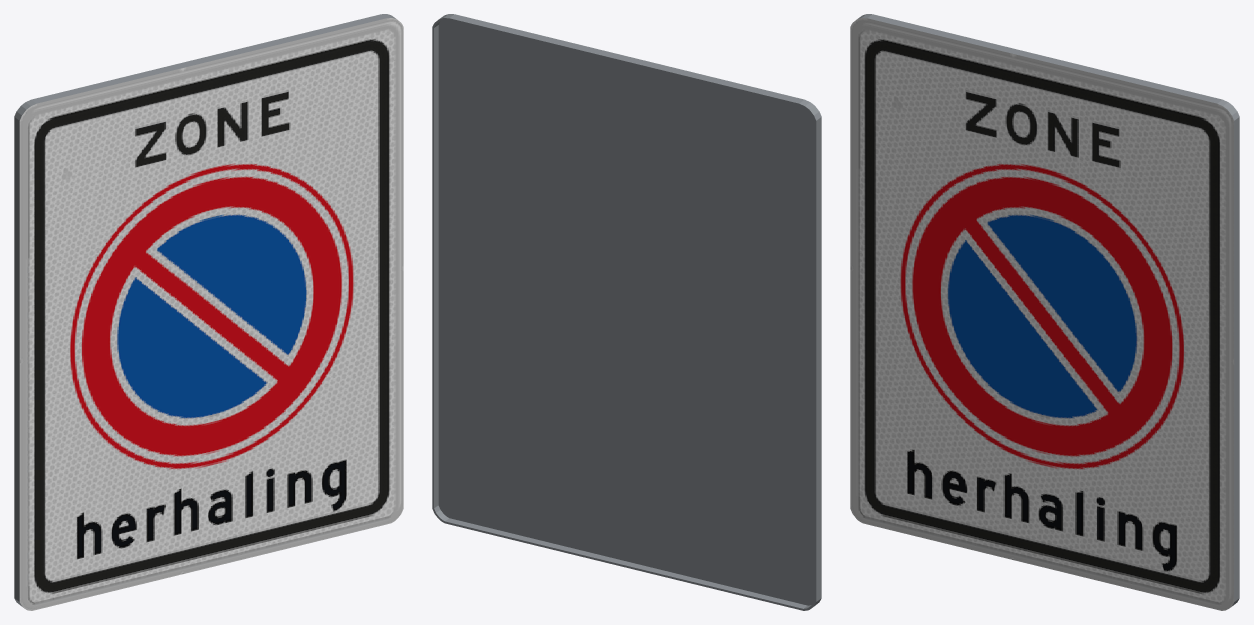
3 views of the same model, side by side, from view 1: azimuth 30°, elevation 25°; view 2: azimuth 150°, elevation 25°; view 3: azimuth 330°, elevation 25° (orthographic).
Visible parts, largest first — view 1: cat_f358fa8a3bb9fc4d; view 2: cat_f358fa8a3bb9fc4d; view 3: cat_f358fa8a3bb9fc4d.
Part boxes in pixels (bbox=[...]): cat_f358fa8a3bb9fc4d: bbox=[14, 14, 403, 610]; cat_f358fa8a3bb9fc4d: bbox=[432, 14, 821, 610]; cat_f358fa8a3bb9fc4d: bbox=[850, 14, 1239, 610].
Size of the model in its own units: 0.6 by 0.015 by 0.7558.
Materials: 2 (1 with a texture image).
